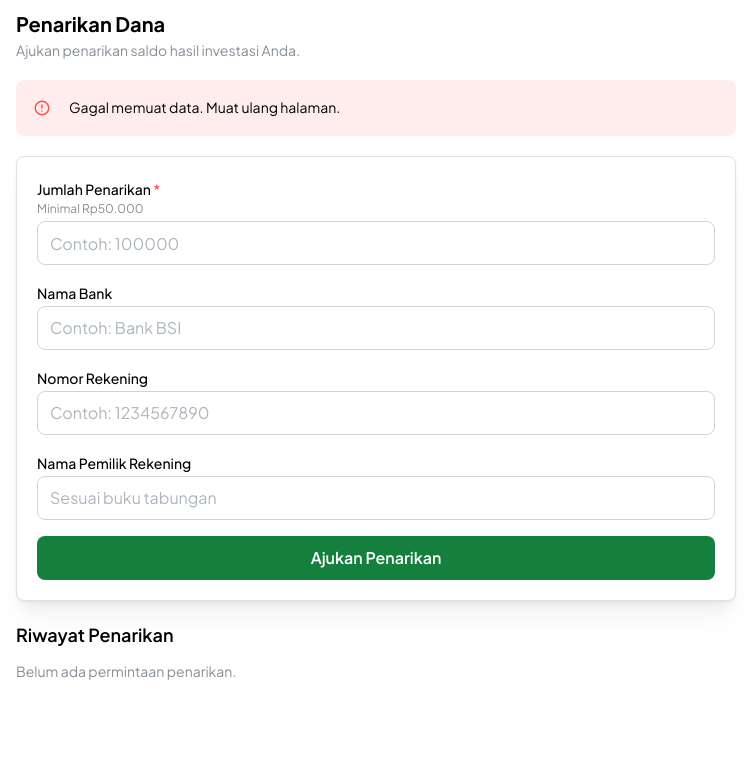
Scenario: Portfolio, Withdrawal, Profile › withdrawal rejects amount below 50000
This screenshot has width=753, height=769.
Type "40000" into the number field labelled "Jumlah Penarikan *" at (376, 243), box [37,221,715,265]
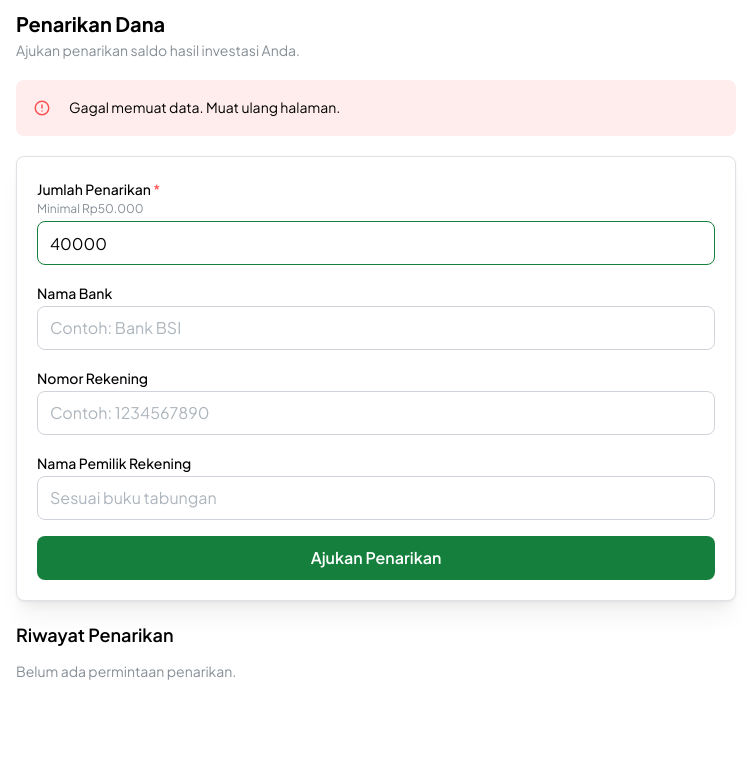
Click the button "Ajukan Penarikan" at (376, 558), box [37,536,715,580]
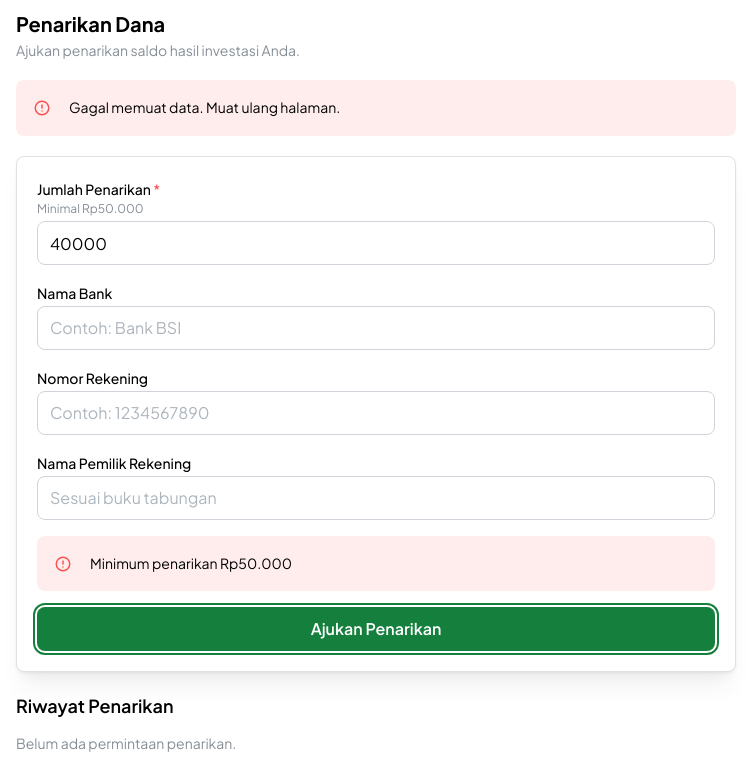
Check: the text "Minimum penarikan Rp50.000" is shown, box [90,554,292,572]
